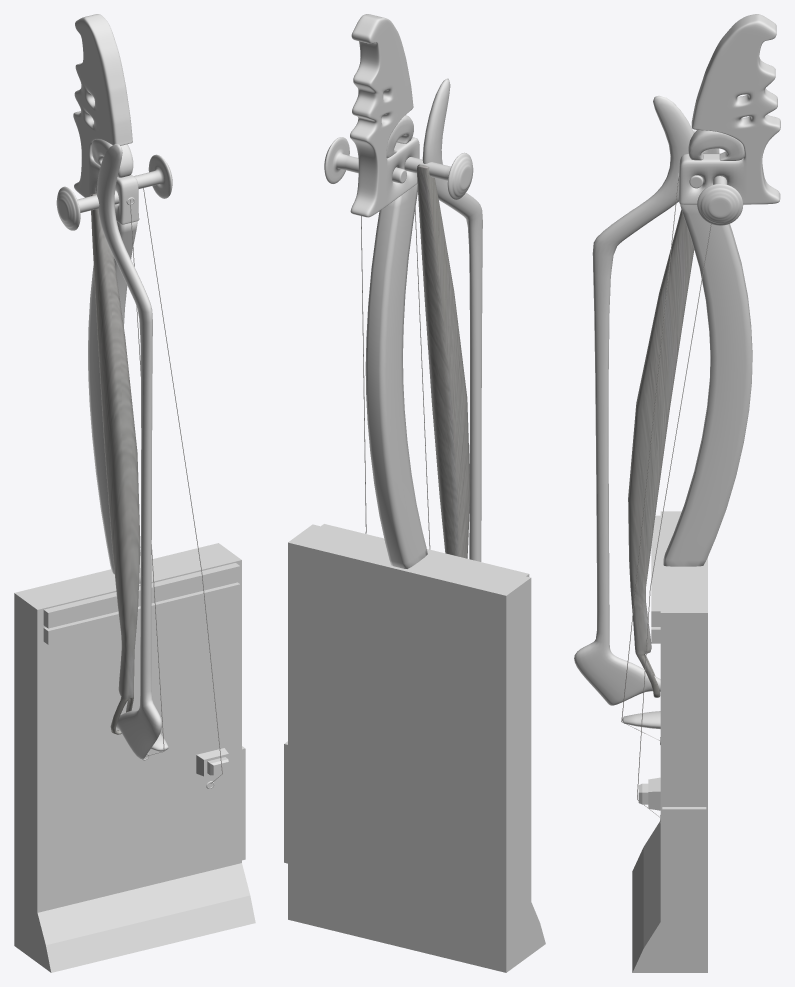
The model's file is alat musik.fbx.
3 renders of one model, left to right at view 1: azimuth 30°, elevation 25°; view 2: azimuth 150°, elevation 25°; view 3: azimuth 270°, elevation 25°, orthographic. The views are drawn at different scales.
Visible parts, largest first — view 1: Cube, Cube.004, Cube.002, Plane, Plane.001, Circle.001, Circle, Cylinder.001, Cube.003, Cube.001; view 2: Cube, Plane.001, Cube.004, Plane, Cube.002, Circle.001, Circle, Cube.001; view 3: Cube, Plane.001, Cube.002, Cube.004, Plane, Circle, Cube.001, Cylinder.001, Cylinder, Cube.003, Circle.002.
Part boxes in pixels (x1,y1,x2,y2): Cube: (14,543,255,972); Cube.004: (90,193,140,734); Cube.002: (96,144,162,759); Plane: (73,14,139,224); Plane.001: (88,221,140,583); Circle.001: (56,186,119,230); Circle: (95,154,172,198); Cylinder.001: (143,187,222,783); Cube.003: (196,748,228,776); Cube.001: (91,139,133,177); Cube: (284,524,545,972); Plane.001: (365,183,427,568); Cube.004: (417,164,470,558); Plane: (350,14,419,217); Cube.002: (422,78,482,561); Circle.001: (404,152,473,199); Circle: (324,137,406,183); Cube.001: (386,115,413,158); Cube: (632,511,707,972); Plane.001: (663,204,752,566); Cube.002: (574,95,693,705); Cube.004: (628,210,694,697); Plane: (679,14,780,204); Circle: (697,176,743,225); Cube.001: (688,130,744,160); Cylinder.001: (637,224,711,817); Cylinder: (621,176,679,740); Cube.003: (638,777,660,810); Circle.002: (622,711,660,729).
Bounding box in the file's own units: 1037 × 4206 × 871.
6 materials, 1 textured.
